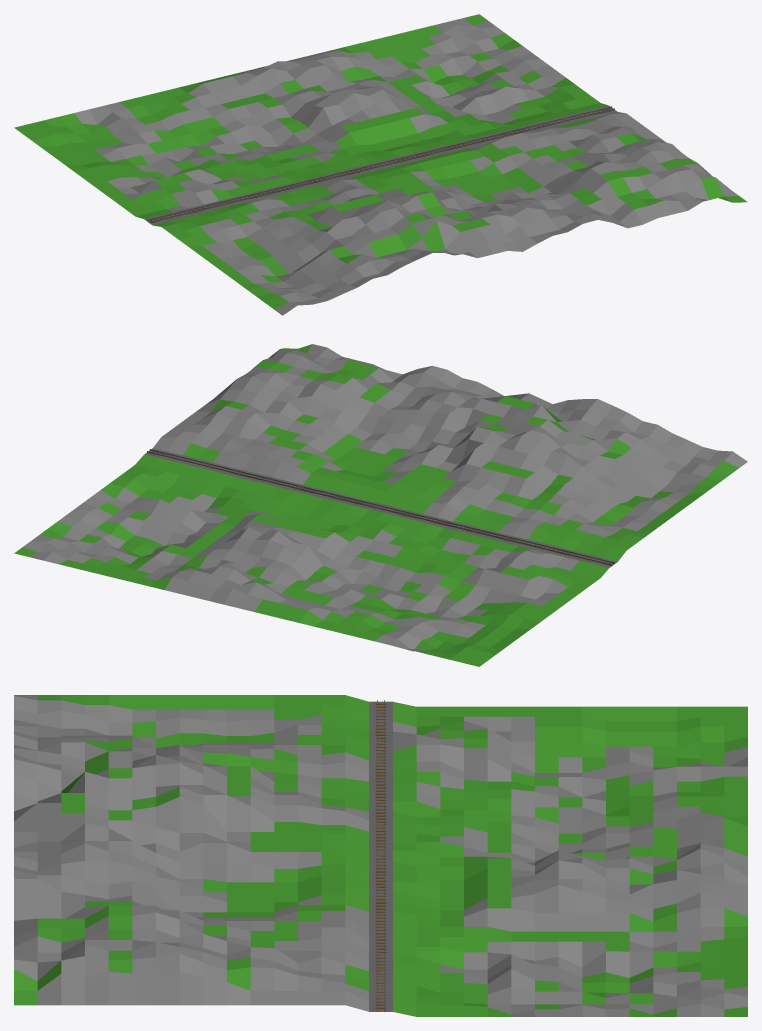
File: terrain.obj
The picture shows the model from 3 angles, top to bottom: view 1: azimuth 30°, elevation 25°; view 2: azimuth 150°, elevation 25°; view 3: azimuth 270°, elevation 25°; orthographic projection. The views are drawn at different scales.
Parts seen in each view (by area): view 1: Ground, track2, track1, ties.003; view 2: Ground, track2, track1, ties.003; view 3: Ground, ties.003.
Boxes of the visible parts, left/top/right/bottom form: Ground: left=14, top=14, right=747, bottom=315; track2: left=147, top=106, right=612, bottom=221; track1: left=149, top=108, right=614, bottom=223; ties.003: left=150, top=108, right=610, bottom=222; Ground: left=14, top=344, right=747, bottom=666; track2: left=147, top=451, right=612, bottom=565; track1: left=149, top=449, right=614, bottom=563; ties.003: left=150, top=451, right=610, bottom=565; Ground: left=14, top=695, right=747, bottom=1016; ties.003: left=375, top=703, right=386, bottom=1008.
Bounding box in the file's own units: 200 × 23.14 × 200.
